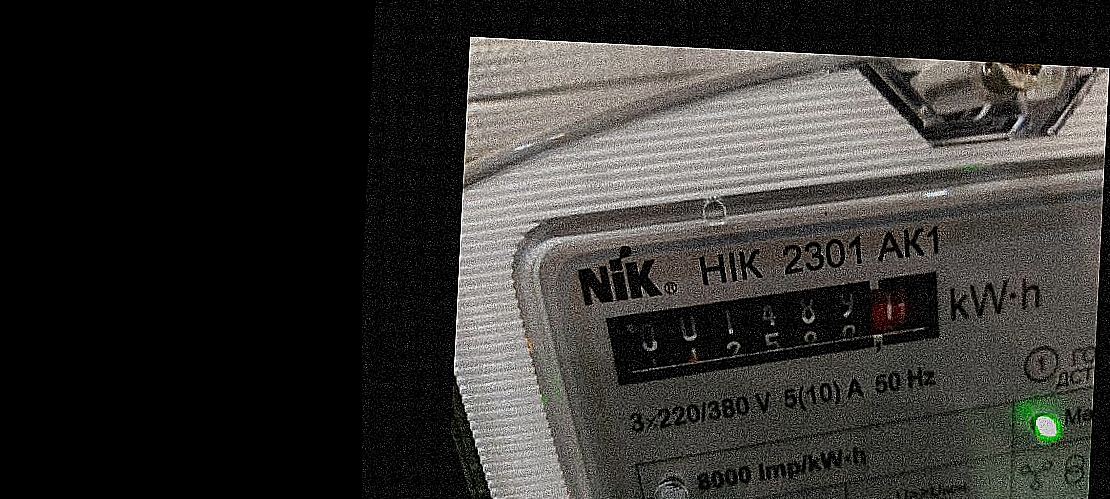0: (674, 306, 702, 343), (635, 318, 661, 355)
1: (878, 284, 899, 323), (718, 304, 740, 336)
4: (757, 296, 780, 328)
8: (797, 290, 820, 327)
9: (836, 286, 858, 319)
screen: (590, 244, 972, 413)
